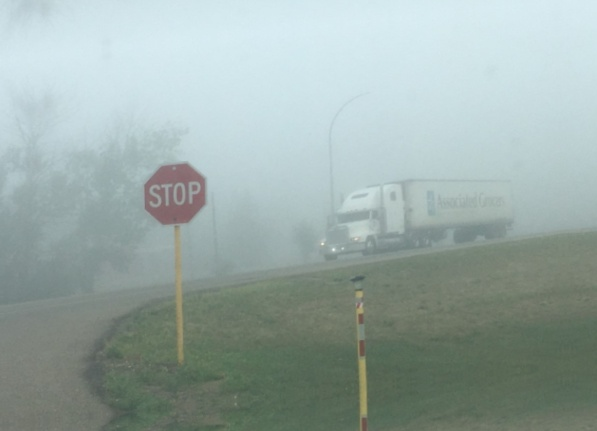Stop: (136, 157, 213, 227)
